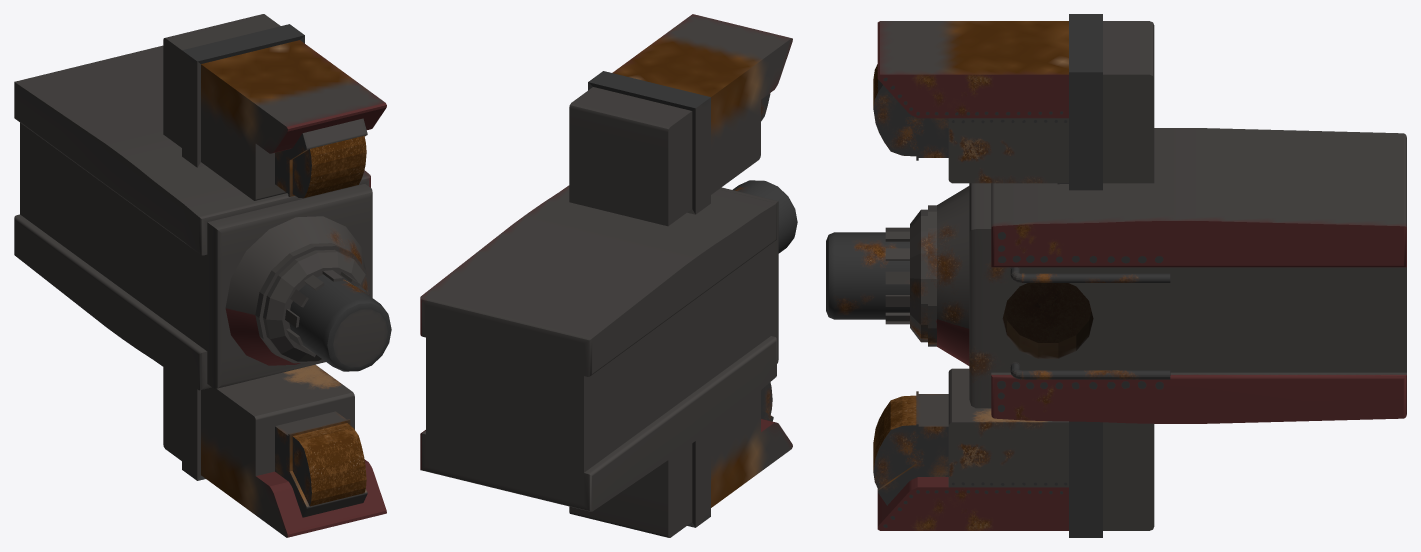
The model's file is Boss_Mainbody 1.fbx.
The picture shows the model from 3 angles, left to right: view 1: azimuth 30°, elevation 25°; view 2: azimuth 150°, elevation 25°; view 3: azimuth 270°, elevation 25°; orthographic projection. The views are drawn at different scales.
Visible parts, largest first — view 1: Boss_Mainbody_low, Boss_Arms_low, Boss_TurretPlatforms_low, Boss_MainCannon_Mouth_low, Boss_Maincannon_low, Boss_MainCannon_Ridge_low; view 2: Boss_Mainbody_low, Boss_Arms_low, Boss_Maincannon_low, Boss_TurretPlatforms_low; view 3: Boss_Mainbody_low, Boss_Arms_low, Boss_TurretPlatforms_low, Boss_MainCannon_Mouth_low, Boss_Maincannon_low, Boss_Pipes_low, Boss_MainCannon_Ridge_low.
Boxes of the visible parts, x1,y1,x2,y2 form: Boss_Mainbody_low: [14, 45, 372, 390]; Boss_Arms_low: [163, 14, 386, 537]; Boss_TurretPlatforms_low: [275, 118, 367, 517]; Boss_MainCannon_Mouth_low: [225, 216, 369, 365]; Boss_Maincannon_low: [289, 274, 391, 371]; Boss_MainCannon_Ridge_low: [285, 270, 367, 357]; Boss_Mainbody_low: [420, 185, 778, 511]; Boss_Arms_low: [569, 14, 792, 537]; Boss_Maincannon_low: [732, 180, 797, 253]; Boss_TurretPlatforms_low: [761, 93, 773, 421]; Boss_Mainbody_low: [969, 128, 1406, 423]; Boss_Arms_low: [877, 14, 1154, 537]; Boss_TurretPlatforms_low: [873, 64, 948, 505]; Boss_MainCannon_Mouth_low: [910, 186, 969, 365]; Boss_Maincannon_low: [826, 232, 909, 319]; Boss_Pipes_low: [1010, 267, 1170, 379]; Boss_MainCannon_Ridge_low: [885, 227, 909, 324].
Bounding box in the file's own units: 1174 × 2567 × 2902.
1 material, 1 textured.
